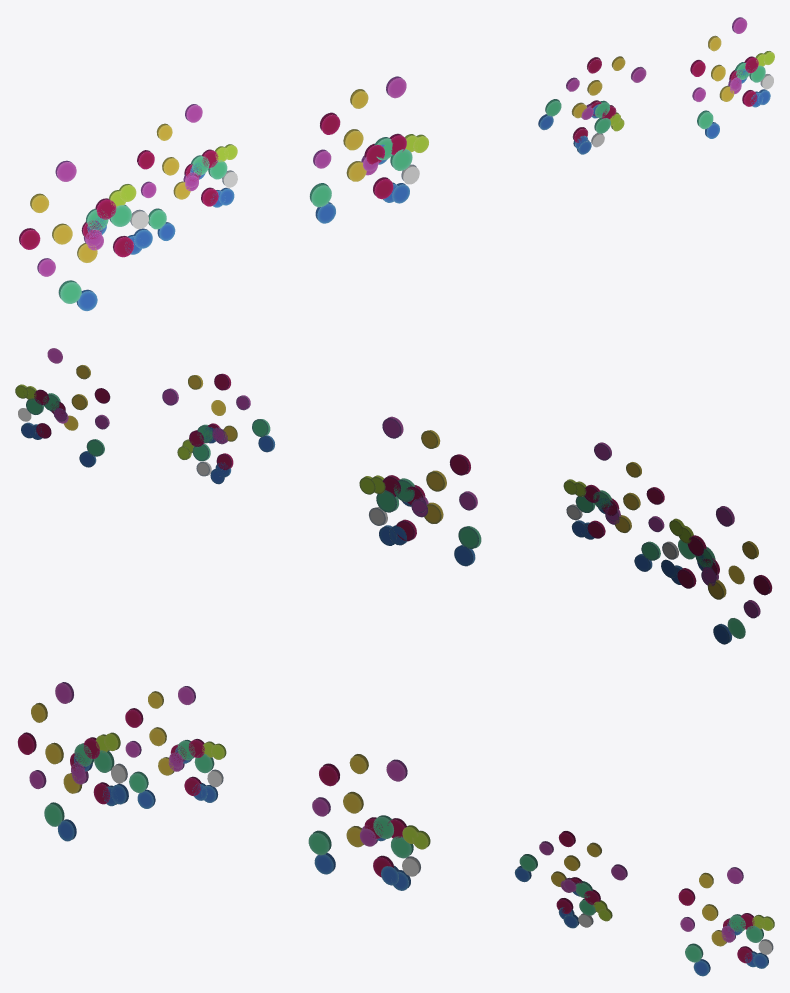
File: model_icinglump-1x4.glb
3 views of the same model, one above another, from view 1: azimuth 30°, elevation 25°; view 2: azimuth 150°, elevation 25°; view 3: azimuth 330°, elevation 25° (orthographic).
Visible parts, largest first — view 1: sprinkle.part_modelset-sprinkles-MeshSets[sprinkles_03].Mesh (×5), sprinkle.part_modelset-sprinkles-MeshSets[sprinkles_02].Mesh (×5), sprinkle.part_modelset-sprinkles-MeshSets[sprinkles_01].Mesh (×5), sprinkle.part_modelset-sprinkles-MeshSets[sprinkles_04].Mesh (×4); view 2: sprinkle.part_modelset-sprinkles-MeshSets[sprinkles_03].Mesh (×5), sprinkle.part_modelset-sprinkles-MeshSets[sprinkles_02].Mesh (×5), sprinkle.part_modelset-sprinkles-MeshSets[sprinkles_01].Mesh (×5), sprinkle.part_modelset-sprinkles-MeshSets[sprinkles_04].Mesh (×4); view 3: sprinkle.part_modelset-sprinkles-MeshSets[sprinkles_03].Mesh (×5), sprinkle.part_modelset-sprinkles-MeshSets[sprinkles_02].Mesh (×5), sprinkle.part_modelset-sprinkles-MeshSets[sprinkles_01].Mesh (×5), sprinkle.part_modelset-sprinkles-MeshSets[sprinkles_04].Mesh (×4).
Boxes of the visible parts, <box> form: sprinkle.part_modelset-sprinkles-MeshSets[sprinkles_03].Mesh (×5): <box>52,64,765,311</box>; sprinkle.part_modelset-sprinkles-MeshSets[sprinkles_02].Mesh (×5): <box>19,35,773,303</box>; sprinkle.part_modelset-sprinkles-MeshSets[sprinkles_01].Mesh (×5): <box>37,51,774,276</box>; sprinkle.part_modelset-sprinkles-MeshSets[sprinkles_04].Mesh (×4): <box>55,66,646,254</box>; sprinkle.part_modelset-sprinkles-MeshSets[sprinkles_03].Mesh (×5): <box>26,394,744,644</box>; sprinkle.part_modelset-sprinkles-MeshSets[sprinkles_02].Mesh (×5): <box>18,365,772,638</box>; sprinkle.part_modelset-sprinkles-MeshSets[sprinkles_01].Mesh (×5): <box>15,384,760,618</box>; sprinkle.part_modelset-sprinkles-MeshSets[sprinkles_04].Mesh (×4): <box>162,388,734,585</box>; sprinkle.part_modelset-sprinkles-MeshSets[sprinkles_03].Mesh (×5): <box>45,727,763,976</box>; sprinkle.part_modelset-sprinkles-MeshSets[sprinkles_02].Mesh (×5): <box>17,691,773,962</box>; sprinkle.part_modelset-sprinkles-MeshSets[sprinkles_01].Mesh (×5): <box>29,732,774,968</box>; sprinkle.part_modelset-sprinkles-MeshSets[sprinkles_04].Mesh (×4): <box>55,682,764,967</box>.
Bounding box in the file's own units: 3.45 × 0.7871 × 0.1777.
Materials: 1 (1 with a texture image).
